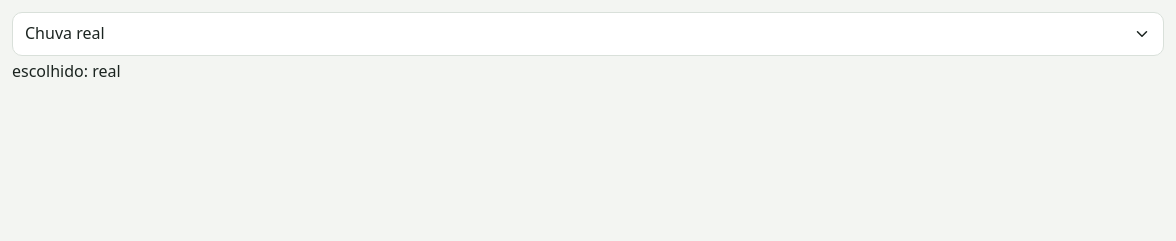
Scenario: Seletor (dropdown do app) › abre a lista ao clicar e troca o valor ao escolher uma opção
Click the dropdown with test id "sel": (65, 33) [12,12,1164,56]
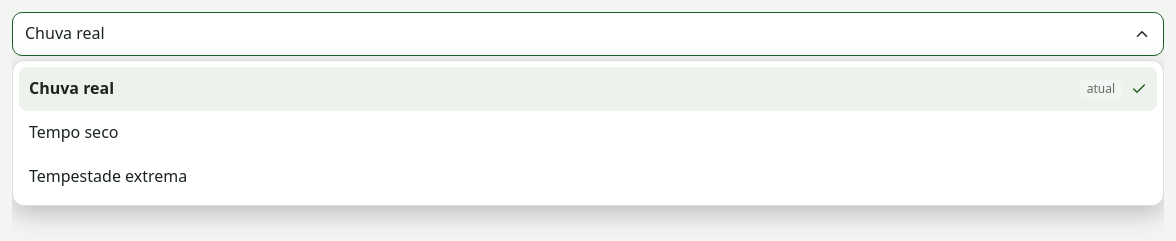
Expected: the list is shown, [12,60,1164,206]
Expected: the number of options is 3
Click the option with test id "sel-opcao-seco": (74, 132) [29,121,118,143]
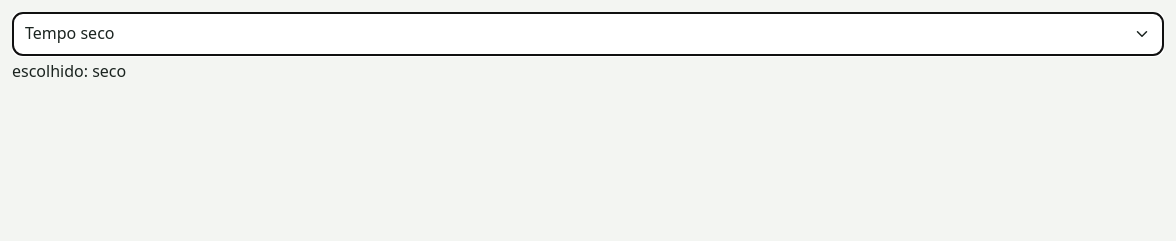
Expected: the list is gone
Expected: the dropdown with test id "sel" reads "Tempo seco", [12,12,1164,56]
Expected: the text with test id "fora" reads "escolhido: seco", [12,60,126,82]
